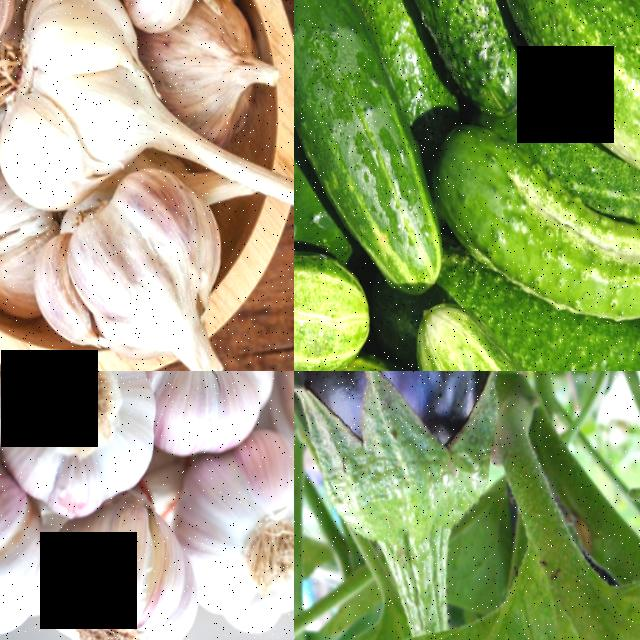cucumber: (431, 111, 635, 335), (294, 0, 439, 308), (499, 0, 640, 201), (413, 285, 616, 371), (399, 0, 523, 127), (294, 237, 376, 371)
eggplant: (294, 371, 521, 528)
garlic: (26, 172, 234, 371), (10, 0, 163, 211), (0, 371, 166, 524), (171, 437, 294, 640), (34, 507, 206, 640), (140, 371, 282, 462), (119, 0, 209, 40)
